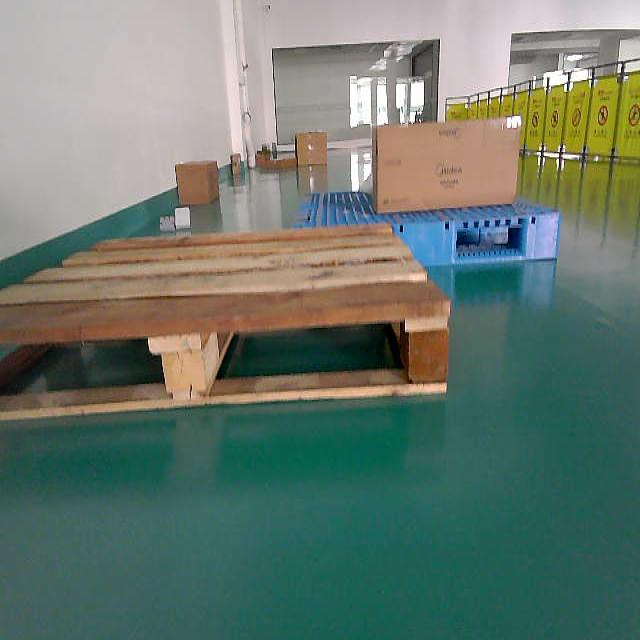euro: (0, 224, 450, 420)
